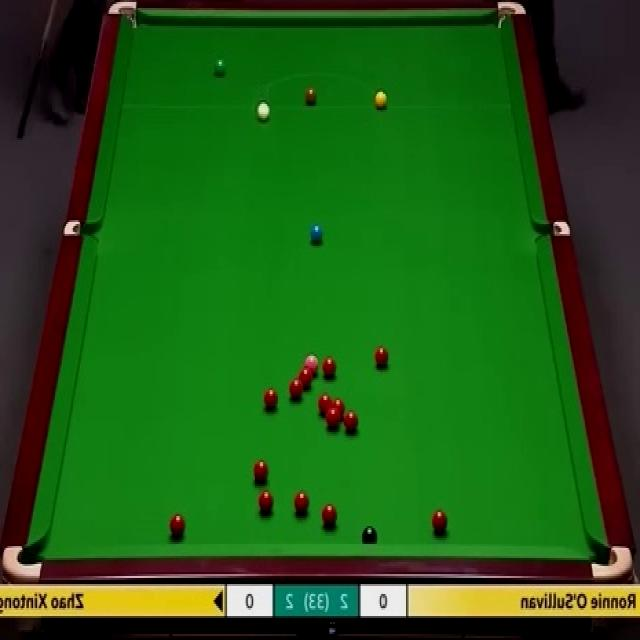black-ball: (358, 525, 376, 544)
blue-ball: (310, 225, 324, 242)
brown-ball: (304, 88, 317, 110)
green-ball: (215, 58, 225, 73)
pink-ball: (304, 354, 318, 374)
red-ball: (316, 393, 333, 419), (253, 459, 269, 486), (320, 504, 338, 528), (294, 488, 309, 516), (167, 513, 183, 539), (432, 509, 449, 533), (343, 410, 360, 434), (375, 346, 388, 370), (326, 408, 340, 430), (258, 491, 272, 513), (290, 380, 303, 402), (331, 399, 345, 418), (299, 367, 313, 386), (264, 390, 278, 408), (324, 357, 337, 376)
white-ball: (256, 100, 272, 120)
yellow-ball: (375, 90, 387, 110)
